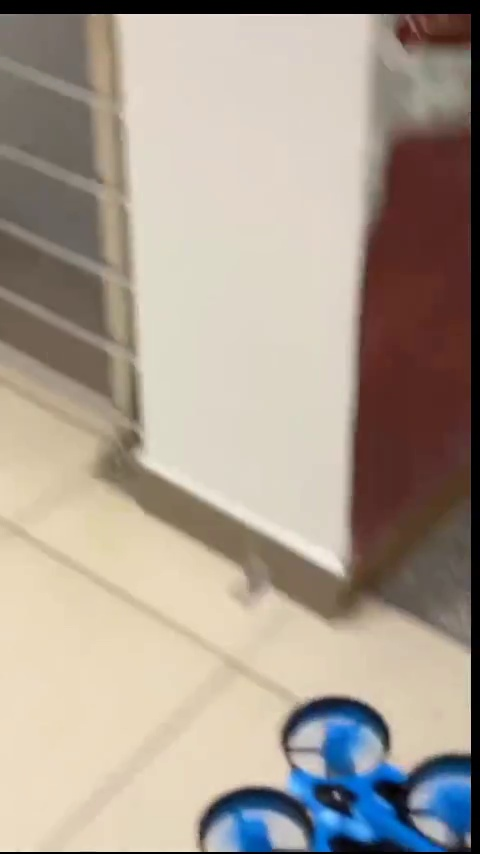drone: (209, 686, 466, 848)
